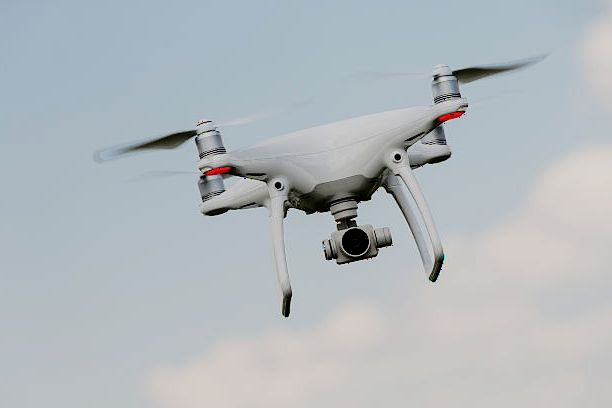Drone: (81, 45, 558, 334)
